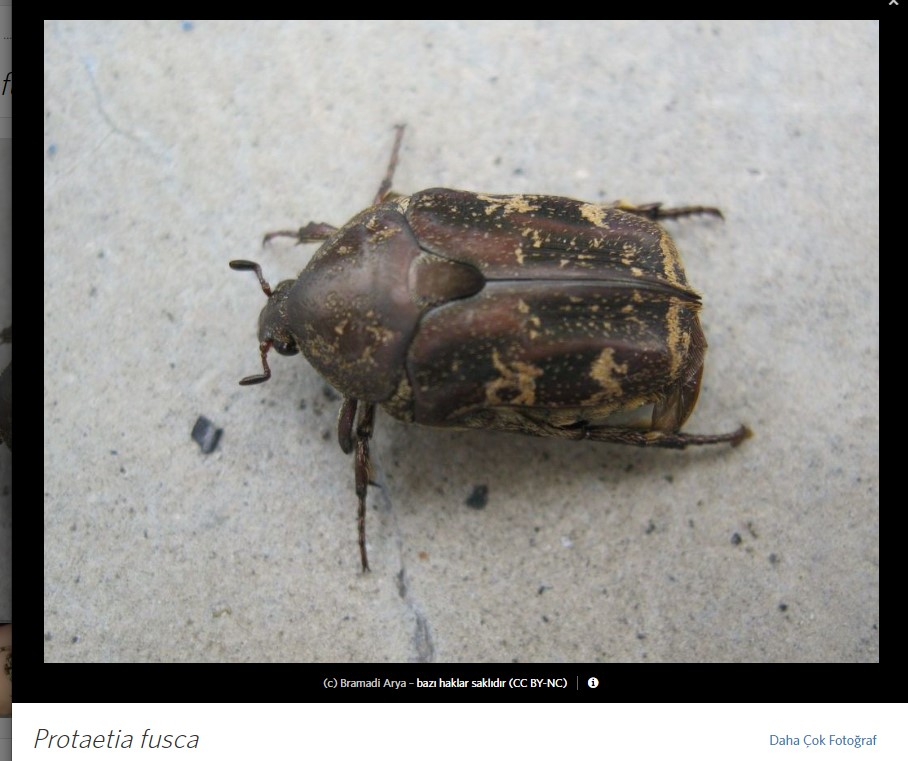Protaetia_fusca: (222, 120, 752, 585)
